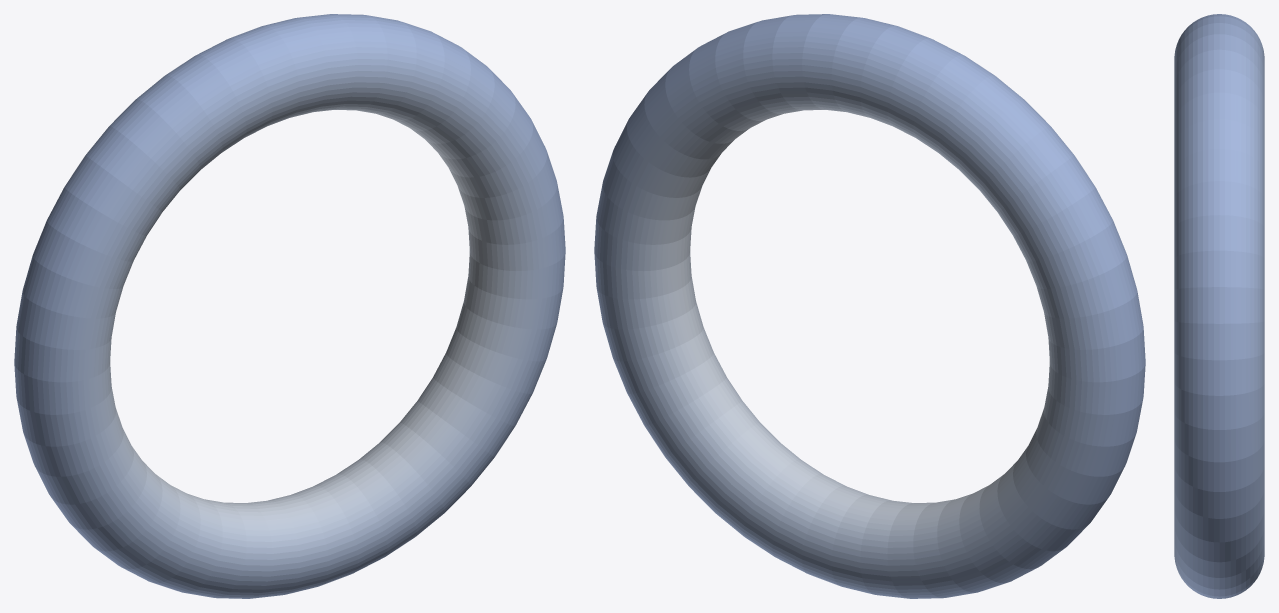
The picture shows the model from 3 angles, left to right: view 1: azimuth 30°, elevation 25°; view 2: azimuth 150°, elevation 25°; view 3: azimuth 270°, elevation 25°; orthographic projection. The views are drawn at different scales.
Parts seen in each view (by area): view 1: world; view 2: world; view 3: world.
Part boxes in pixels (x1,y1,x2,y2): world: (14,14,565,598); world: (594,14,1145,598); world: (1174,14,1264,598).
Bounding box in the file's own units: 26.8 × 26.75 × 4.13.
